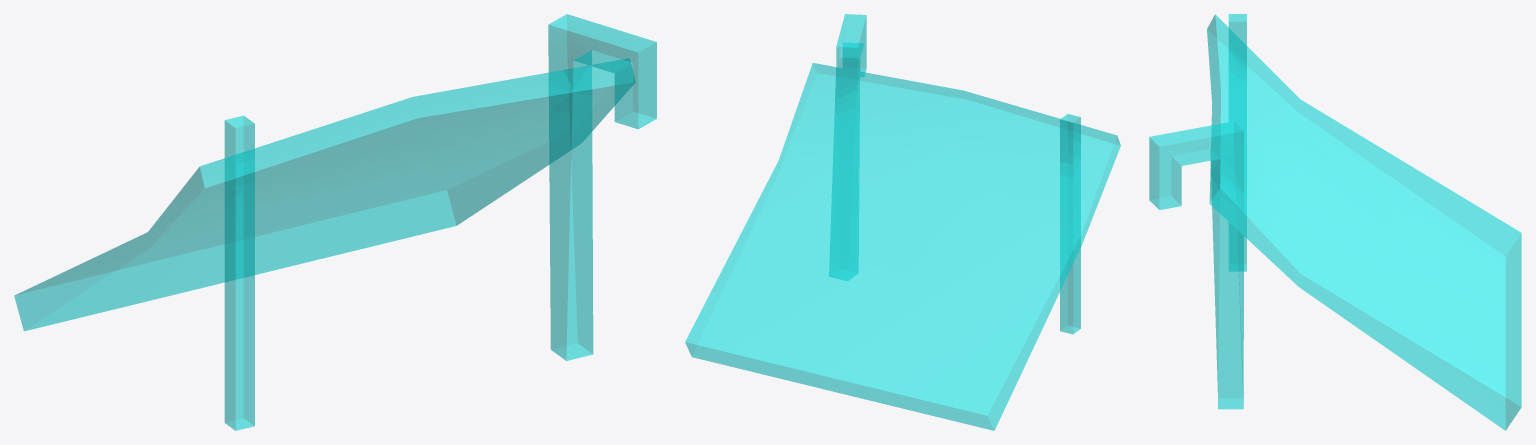
File: SM_Bld_Rooftop_01_Collision.fbx
3 views of the same model, side by side, from view 1: azimuth 30°, elevation 25°; view 2: azimuth 150°, elevation 25°; view 3: azimuth 270°, elevation 25° (orthographic). The views are drawn at different scales.
Visible parts, largest first — view 1: SM_Bld_Rooftop_01_Collision; view 2: SM_Bld_Rooftop_01_Collision; view 3: SM_Bld_Rooftop_01_Collision.
Part boxes in pixels (x1,y1,x2,y2): SM_Bld_Rooftop_01_Collision: (14,14,656,430); SM_Bld_Rooftop_01_Collision: (685,14,1120,430); SM_Bld_Rooftop_01_Collision: (1149,14,1521,430).
Size of the model in its own units: 483 by 362 by 436.
